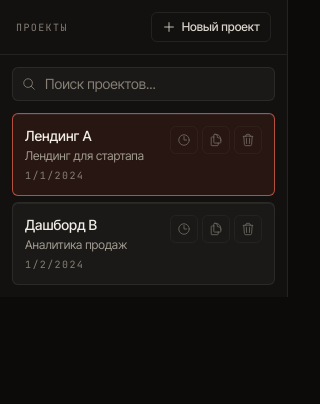
Test: ProjectSidebar › expands and collapses versions for a project
The image size is (320, 404).
Expected: the text "Лендинг A" is shown, [25,127,92,144]
Click the 1st button named "Версии проекта": (184,140) [170,126,198,154]
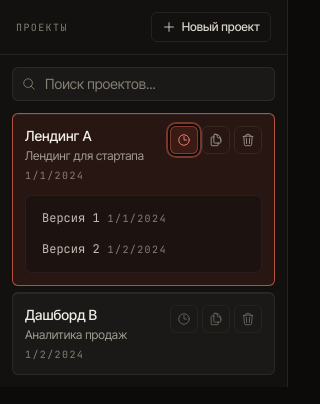
Now the text "Версия 2" is shown, box [42,241,100,257]
Now the text "Версия 1" is shown, box [42,210,100,226]
Now the 1st button named "Версии проекта" is expanded
Click the 1st button named "Версии проекта": (184,140) [170,126,198,154]
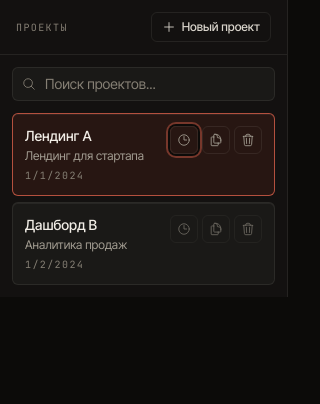
Now the 1st button named "Версии проекта" is collapsed, box [170,126,198,154]
Now the button "Версия 2" is gone
